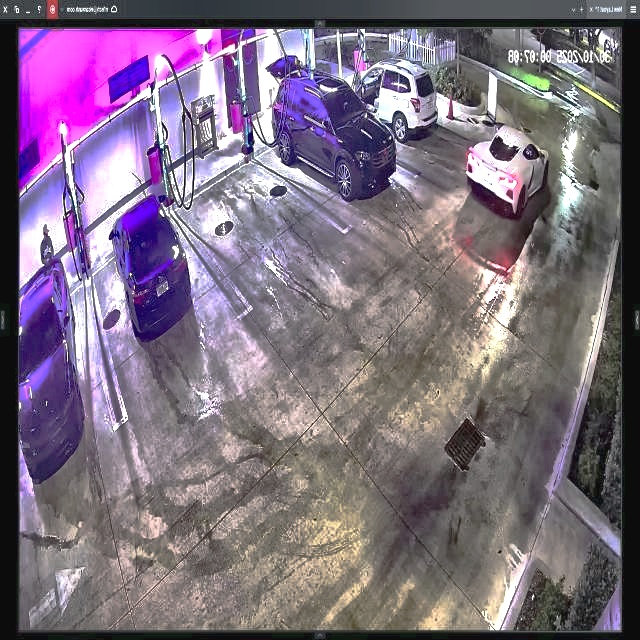Car: (273, 70, 395, 198), (111, 195, 189, 334), (467, 123, 549, 216)
